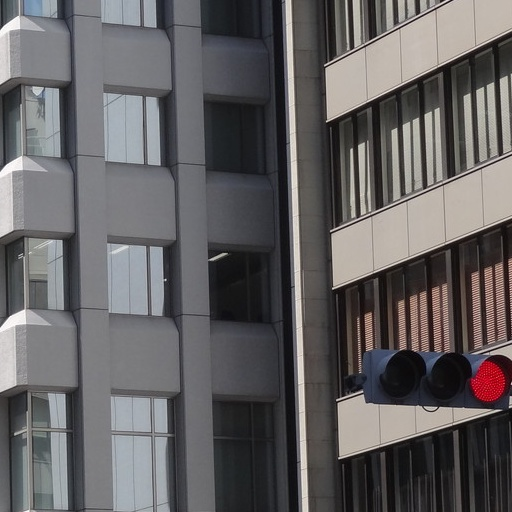Traffic_Signal_Red: (364, 342, 510, 416)
